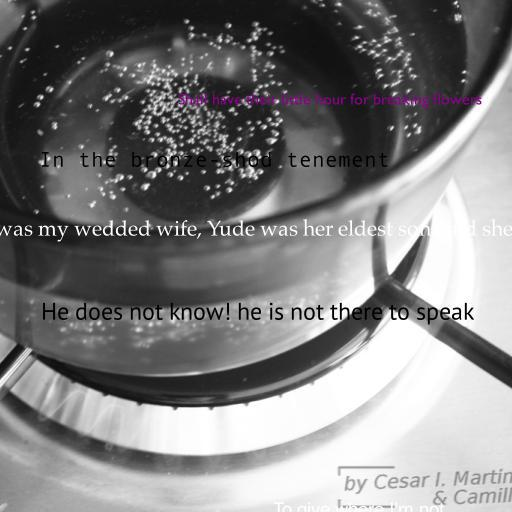Andale Mono: (38, 152, 390, 168)
Gill Sans: (178, 93, 482, 109)
PT Sans: (40, 302, 474, 325)
Palatino: (0, 219, 512, 242)
SignPainter: (272, 502, 444, 512)
